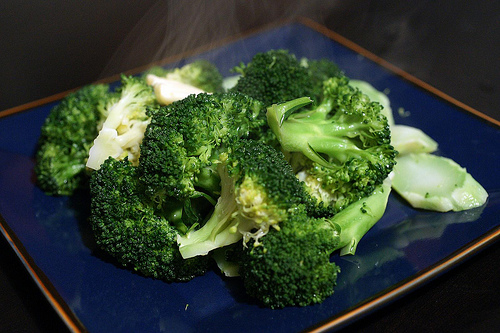broccoli: (244, 180, 395, 309), (37, 75, 160, 194), (262, 74, 393, 178)
